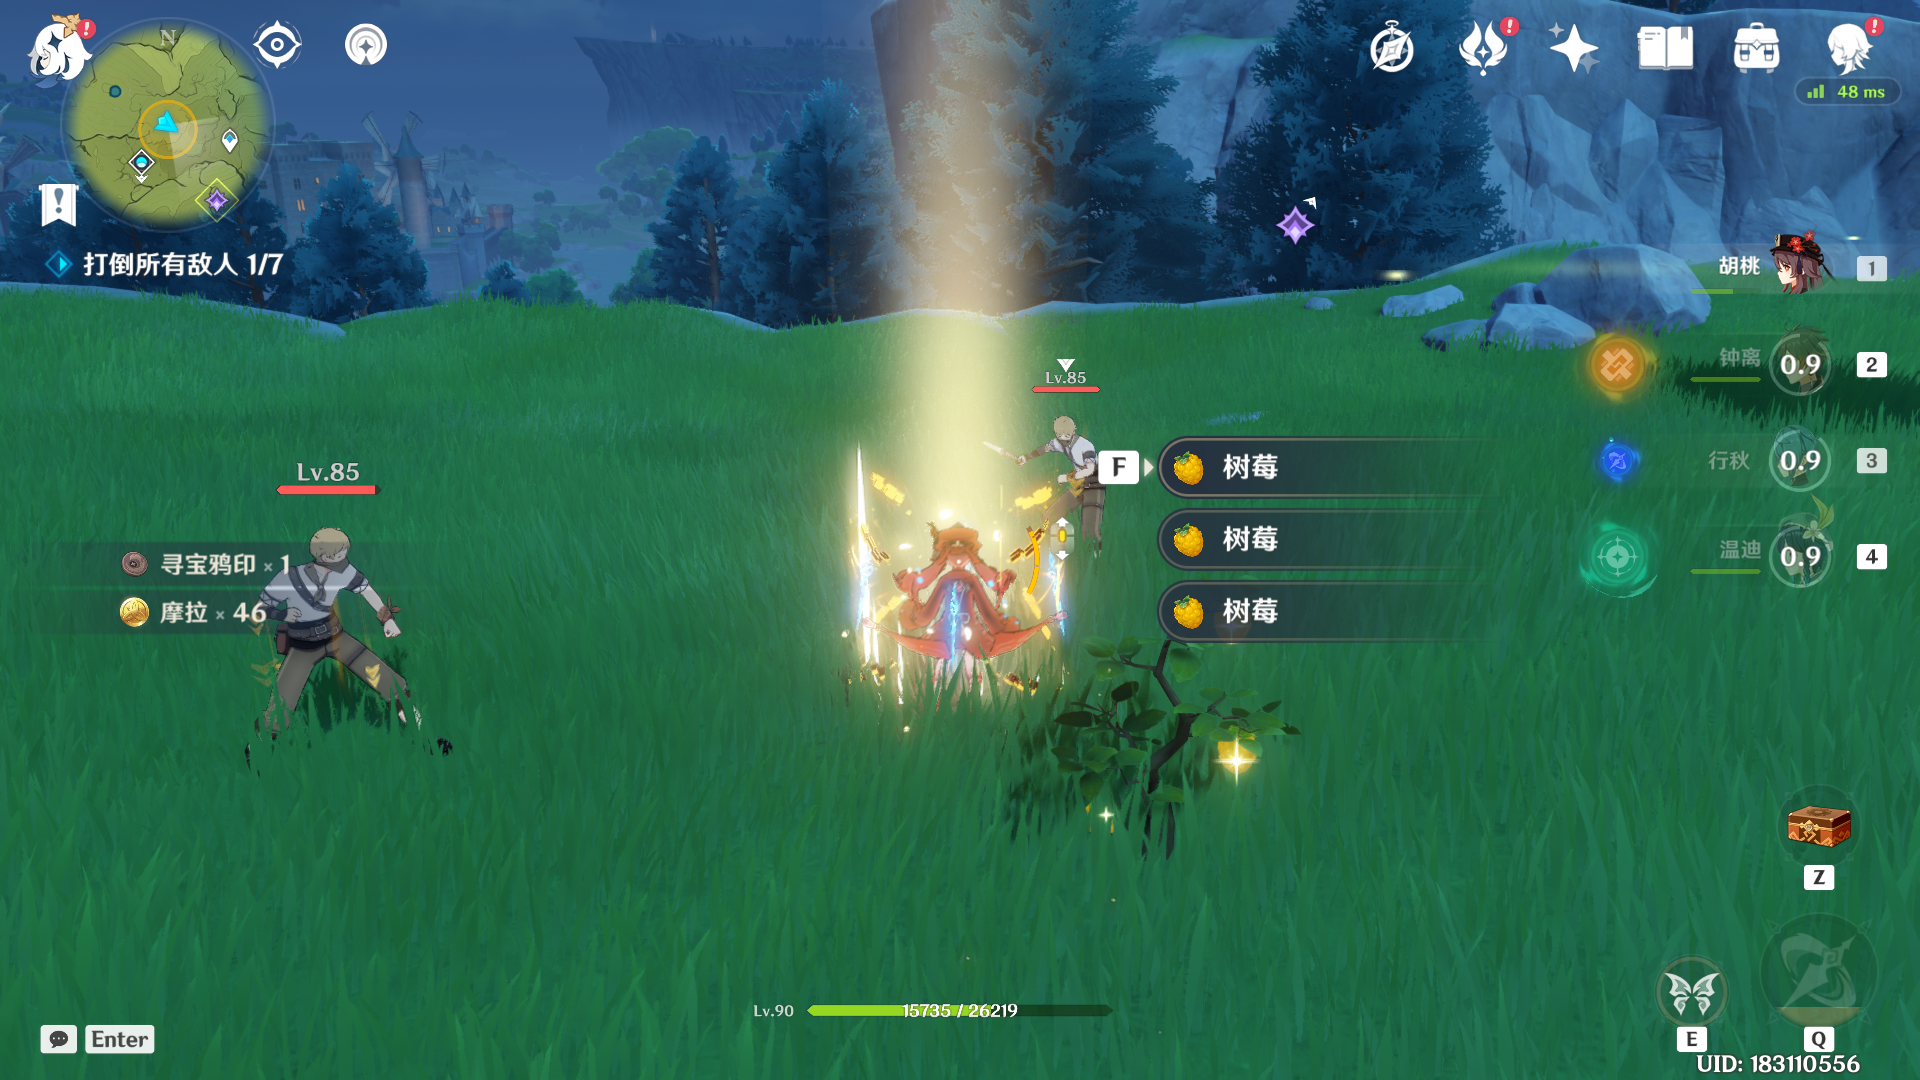character: (858, 460, 1040, 744)
robber: (223, 485, 472, 757), (1005, 396, 1133, 574)
